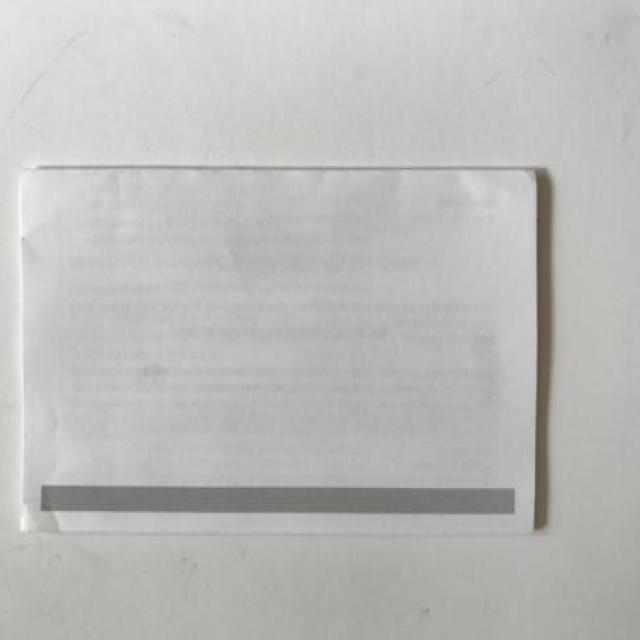kertas: (17, 164, 539, 535)
